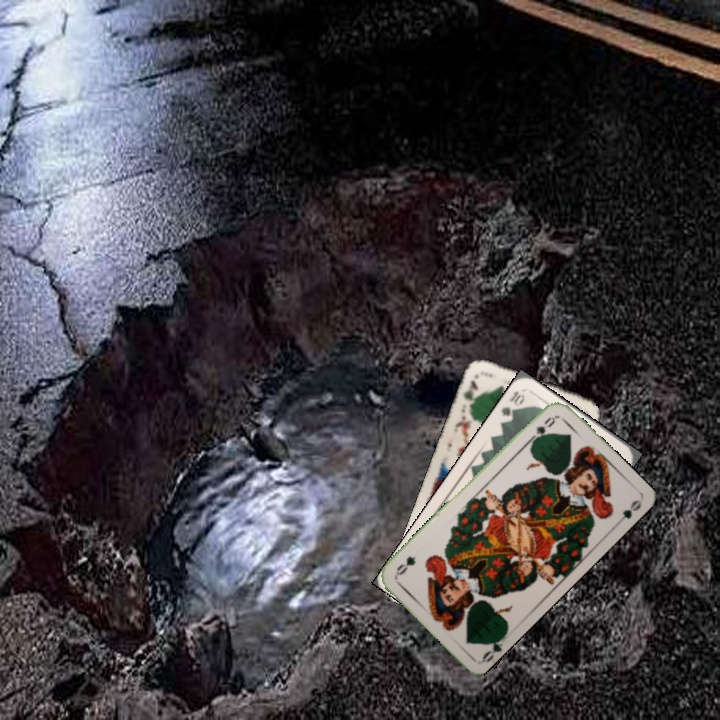G10: (496, 387, 528, 420)
GK: (459, 376, 480, 412)
GO: (525, 412, 559, 446), (478, 630, 508, 665)
